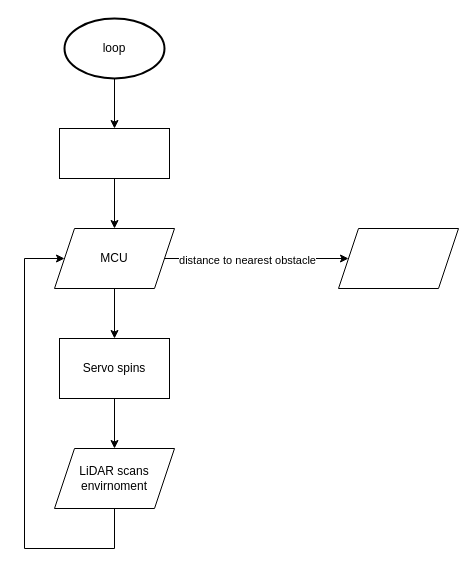
Image size: 476x574. Some labels were removed from this diagram. The shapes that lost their labels are listed below. From the top down, each one's box as (x1, y1, x2, y2) in pixels, then its label:
(58, 128, 170, 178): initialise peripherals
(338, 228, 458, 288): OLED 1362
